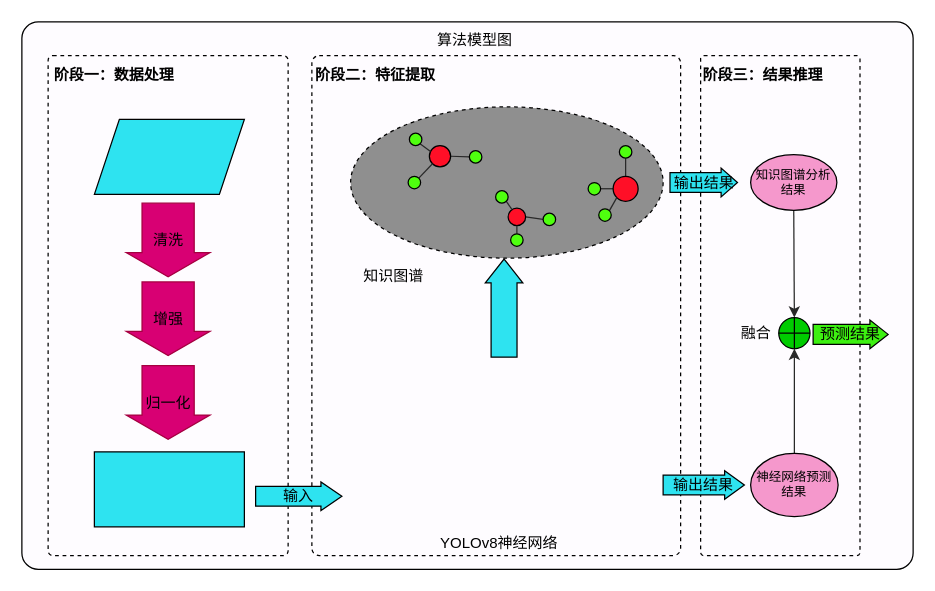
This 935x591 diagram has some shape labels left out. Here are the shapes that lost their labels. From the top down, the centre of each, then its label:
At (168,156): "原始图像数据".
At (503,307): "预测 类别 结果".
At (168,489): "标准图像数据".
